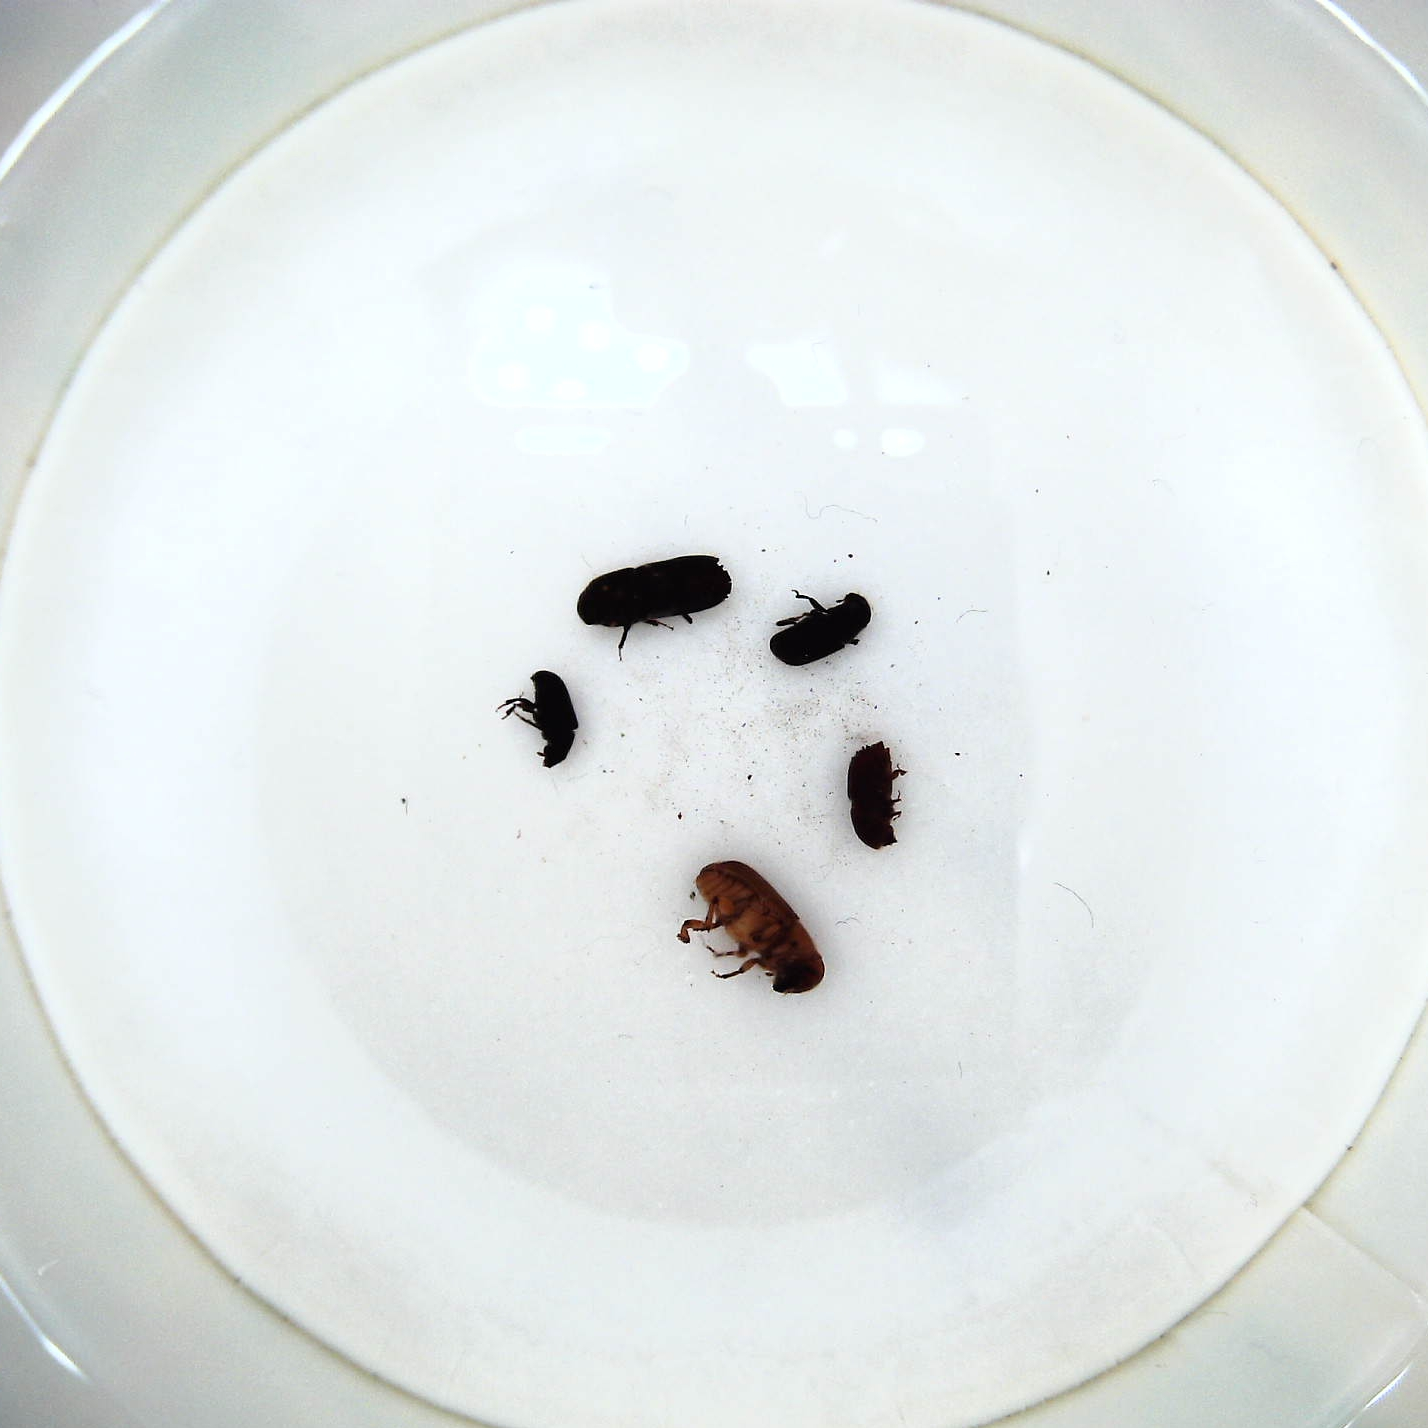Boerner: (571, 548, 740, 653)
Leconte: (676, 858, 832, 1004)
armandi: (764, 587, 881, 663)
coleoptera: (493, 670, 585, 778)
linnaeus: (845, 734, 910, 857)
